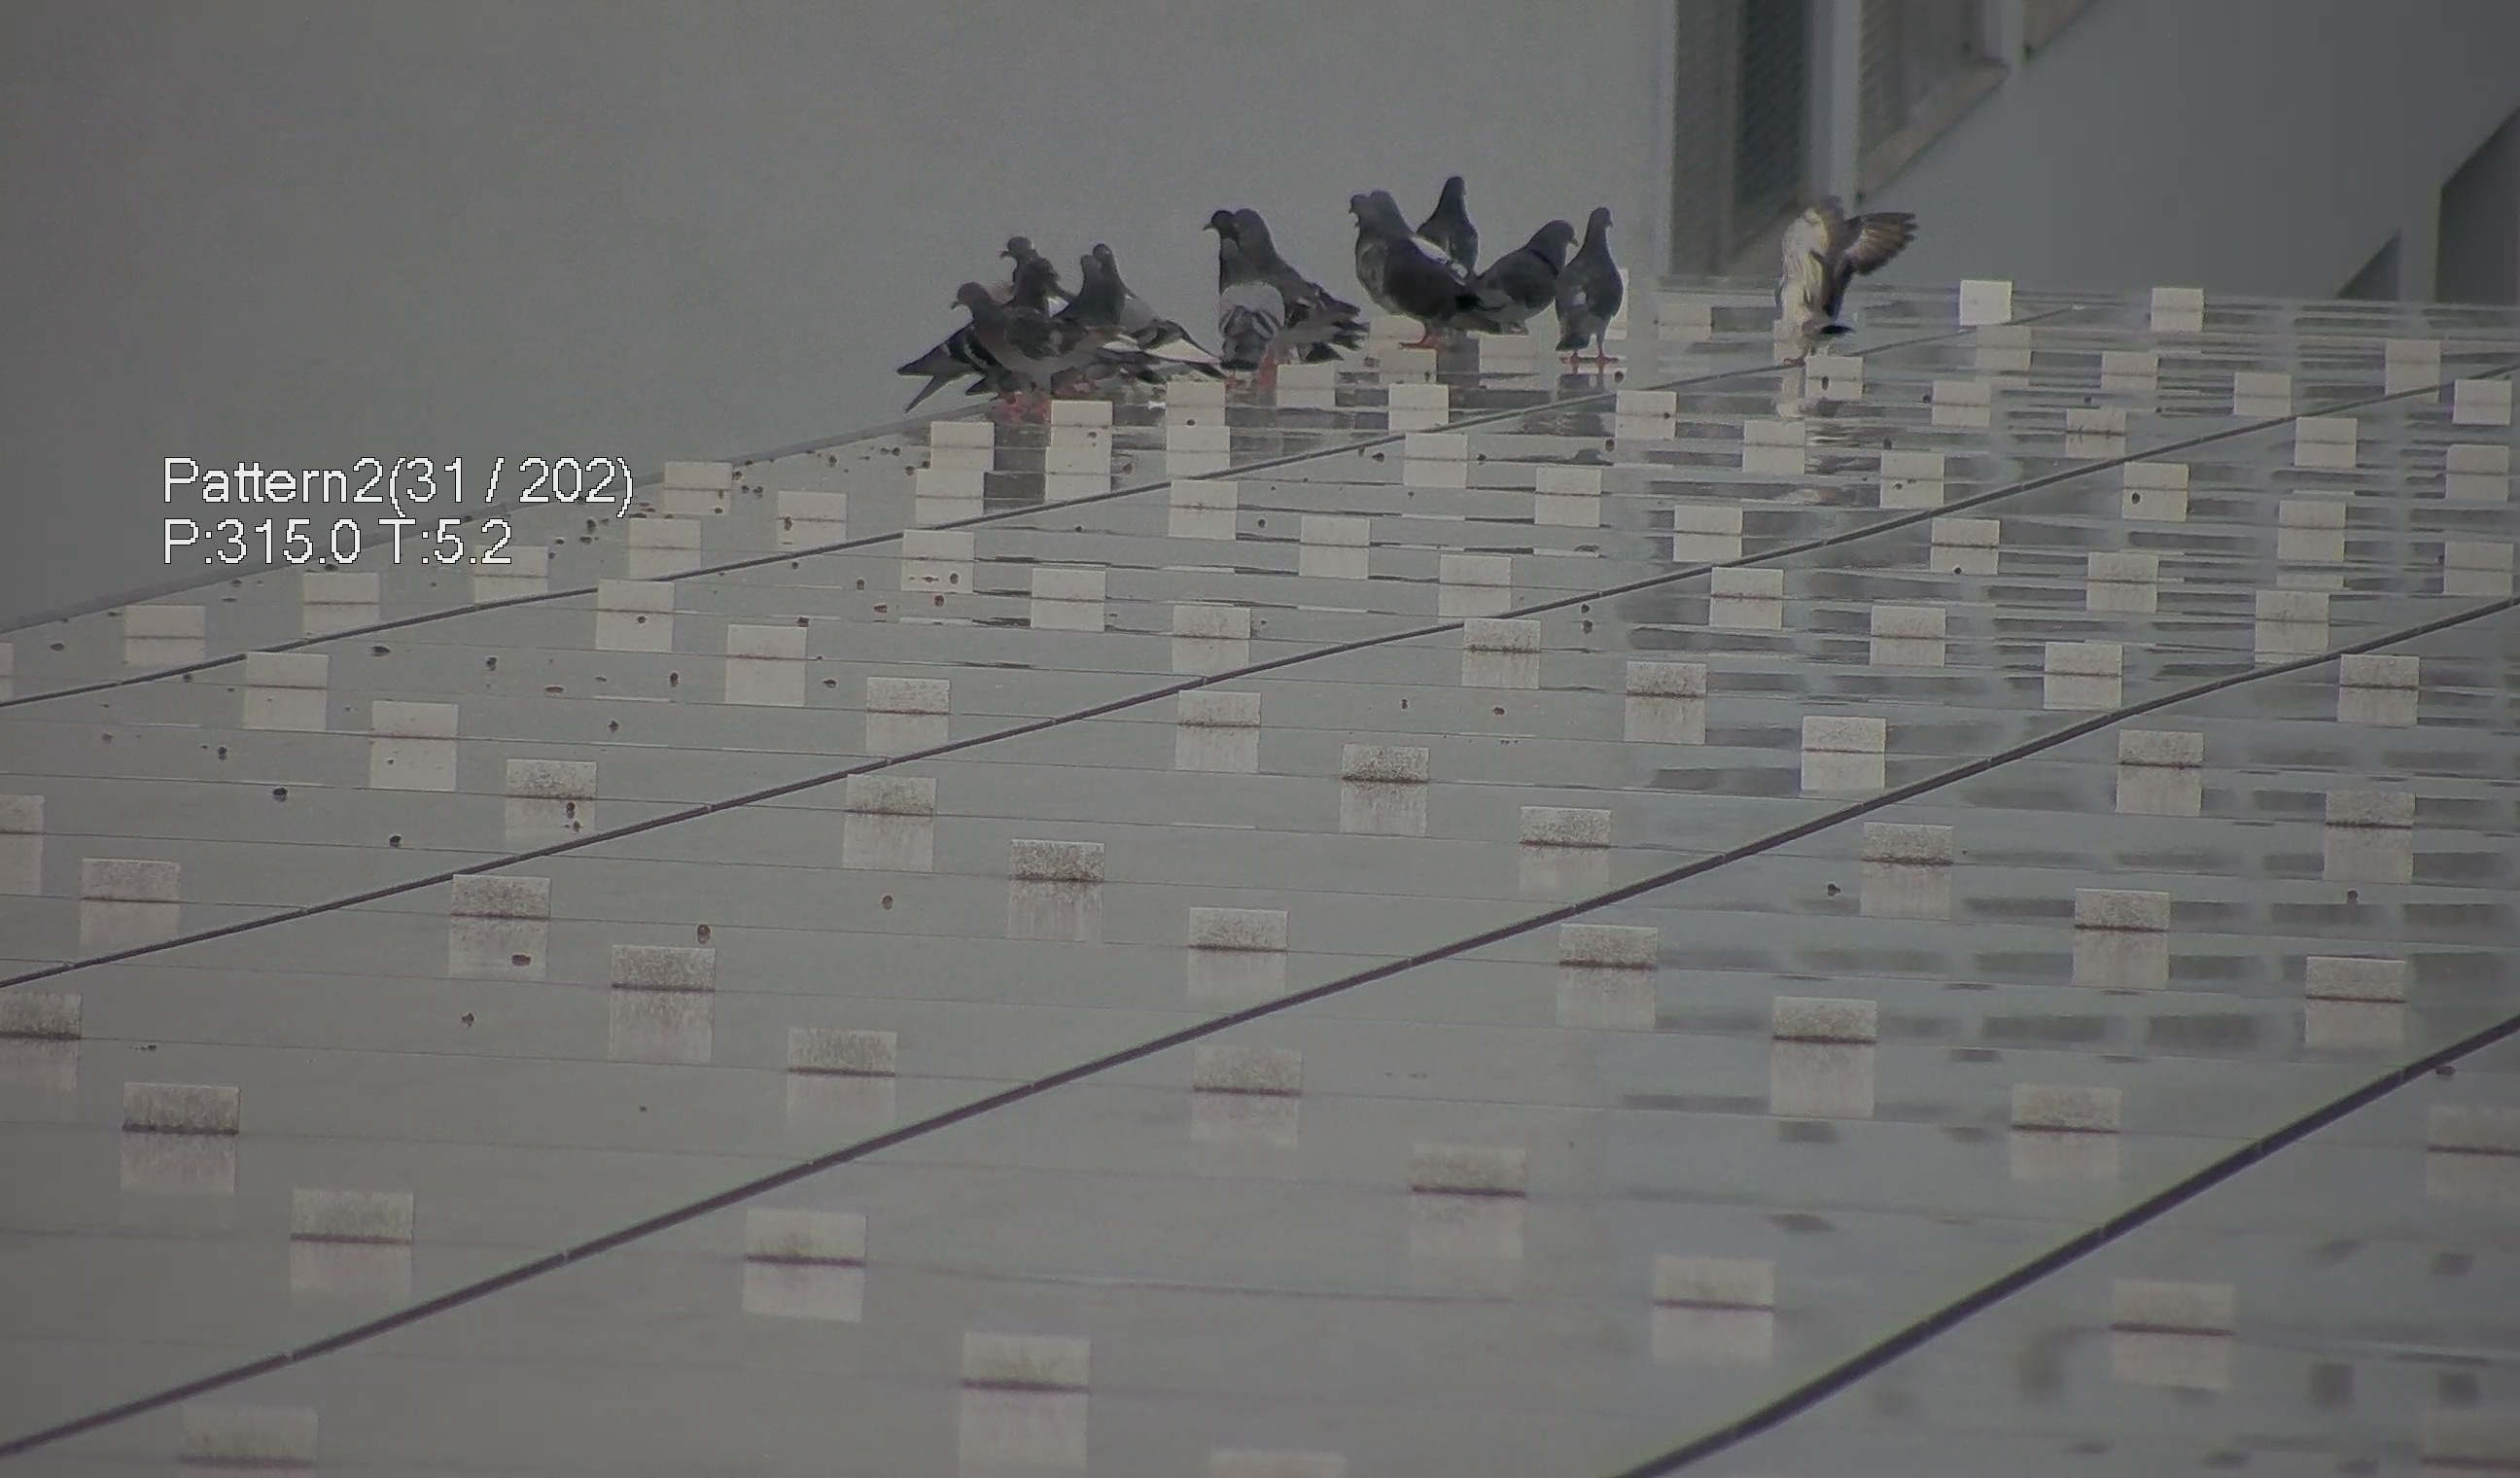Pigeon: (1198, 199, 1368, 373), (911, 243, 1099, 399), (1767, 181, 1920, 347), (1345, 165, 1497, 327), (951, 282, 1159, 396), (1430, 199, 1586, 343), (1053, 234, 1205, 371), (1549, 190, 1634, 357), (1208, 260, 1291, 384), (1417, 158, 1486, 271)
